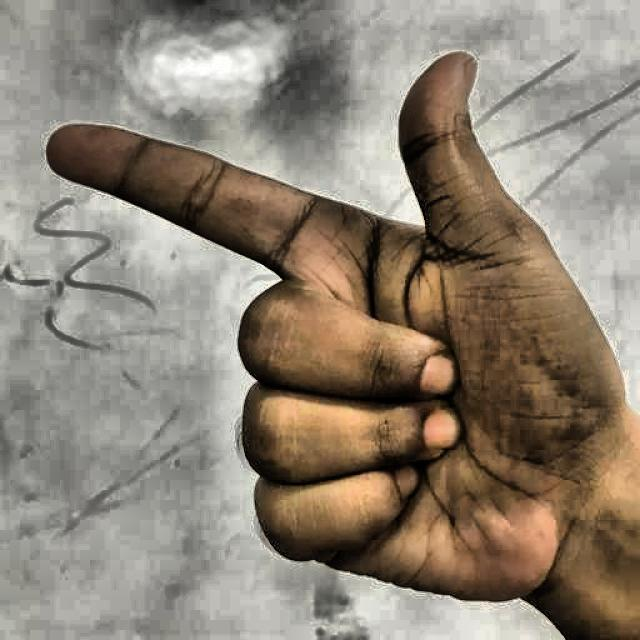Tha: (31, 22, 630, 636)
